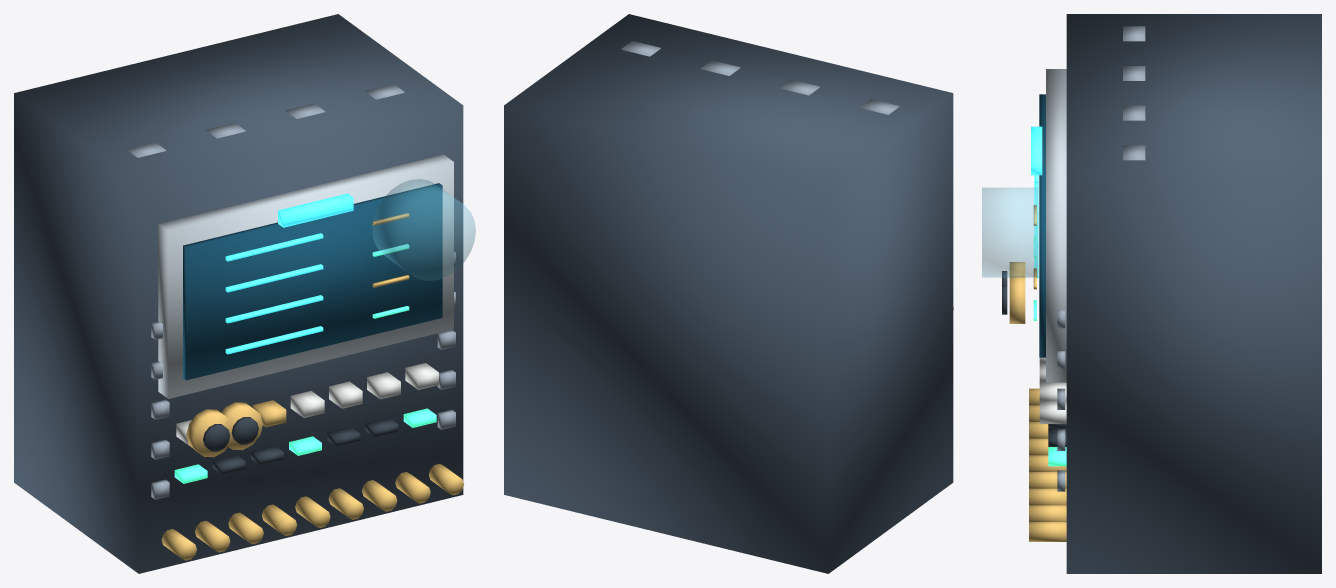
File: 73_L88_AirFlowVelocityMeasurementRack.glb
The picture shows the model from 3 angles, left to right: view 1: azimuth 30°, elevation 25°; view 2: azimuth 150°, elevation 25°; view 3: azimuth 270°, elevation 25°; orthographic projection. The views are drawn at different scales.
Visible parts, largest first — view 1: L87_AirFlowVelocityMeasuremen_Part_0000, L87_AirFlowVelocityMeasuremen_Part_0002, L87_AirFlowVelocityMeasuremen_Part_0001, L87_AirFlowVelocityMeasuremen_Part_0009, L87_AirFlowVelocityMeasuremen_Part_0004, L87_AirFlowVelocityMeasuremen_Part_0008, L87_AirFlowVelocityMeasuremen_Part_0006, L87_AirFlowVelocityMeasuremen_Part_0003, L87_AirFlowVelocityMeasuremen_Part_0007, L87_AirFlowVelocityMeasuremen_Part_0005, L87_AirFlowVelocityMeasuremen_Part_0010, L87_AirFlowVelocityMeasuremen_Part_0011 (+3 smaller); view 2: L87_AirFlowVelocityMeasuremen_Part_0000, L87_AirFlowVelocityMeasuremen_Part_0008; view 3: L87_AirFlowVelocityMeasuremen_Part_0000, L87_AirFlowVelocityMeasuremen_Part_0001, L87_AirFlowVelocityMeasuremen_Part_0009, L87_AirFlowVelocityMeasuremen_Part_0004, L87_AirFlowVelocityMeasuremen_Part_0008, L87_AirFlowVelocityMeasuremen_Part_0002, L87_AirFlowVelocityMeasuremen_Part_0006, L87_AirFlowVelocityMeasuremen_Part_0013, L87_AirFlowVelocityMeasuremen_Part_0010, L87_AirFlowVelocityMeasuremen_Part_0005.
Boxes of the visible parts, x1,y1,x2,y2 form: L87_AirFlowVelocityMeasuremen_Part_0000: (14,14,463,573); L87_AirFlowVelocityMeasuremen_Part_0002: (183,183,442,380); L87_AirFlowVelocityMeasuremen_Part_0001: (158,154,453,398); L87_AirFlowVelocityMeasuremen_Part_0009: (372,179,475,280); L87_AirFlowVelocityMeasuremen_Part_0004: (161,213,464,560); L87_AirFlowVelocityMeasuremen_Part_0008: (126,84,455,499); L87_AirFlowVelocityMeasuremen_Part_0006: (176,363,438,445); L87_AirFlowVelocityMeasuremen_Part_0003: (225,233,323,354); L87_AirFlowVelocityMeasuremen_Part_0007: (212,417,398,474); L87_AirFlowVelocityMeasuremen_Part_0005: (174,244,436,483); L87_AirFlowVelocityMeasuremen_Part_0010: (278,193,353,227); L87_AirFlowVelocityMeasuremen_Part_0011: (186,409,232,457); L87_AirFlowVelocityMeasuremen_Part_0000: (504,14,953,573); L87_AirFlowVelocityMeasuremen_Part_0008: (621,41,899,114); L87_AirFlowVelocityMeasuremen_Part_0000: (1066,14,1321,573); L87_AirFlowVelocityMeasuremen_Part_0001: (1046,69,1066,382); L87_AirFlowVelocityMeasuremen_Part_0009: (982,188,1037,277); L87_AirFlowVelocityMeasuremen_Part_0004: (1029,205,1066,541); L87_AirFlowVelocityMeasuremen_Part_0008: (1057,26,1145,491); L87_AirFlowVelocityMeasuremen_Part_0002: (1039,94,1045,357); L87_AirFlowVelocityMeasuremen_Part_0006: (1039,357,1066,423); L87_AirFlowVelocityMeasuremen_Part_0013: (1009,276,1025,323); L87_AirFlowVelocityMeasuremen_Part_0010: (1031,126,1042,175); L87_AirFlowVelocityMeasuremen_Part_0005: (1033,236,1066,466).
Bounding box in the file's own units: 1.04 × 1.2 × 0.9231.
